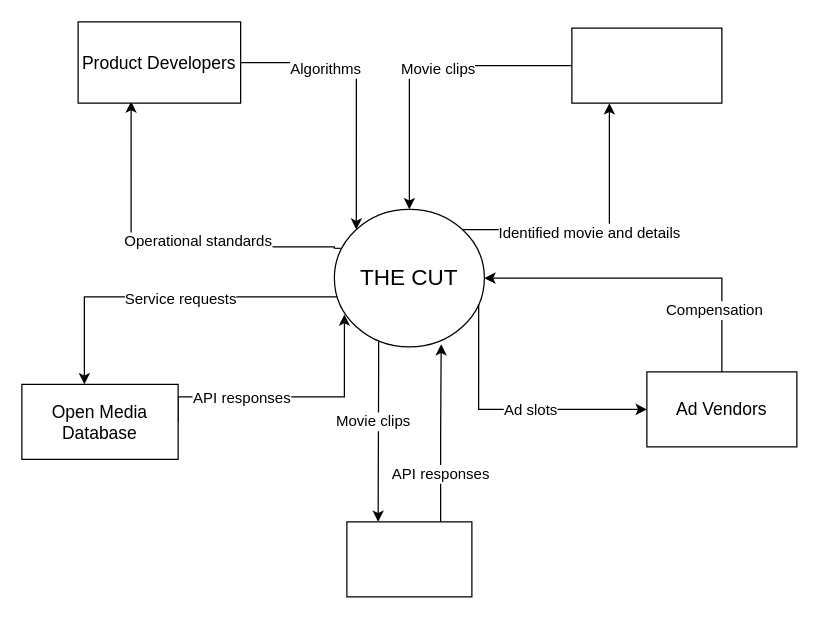
Image size: 819x619. Some labels were removed from this diagram. Here are the shapes that lost their labels. From the top down, the box of each, then its label:
(571, 27, 722, 103): Customers
(346, 521, 472, 597): Image / Audio Recognition Tool
